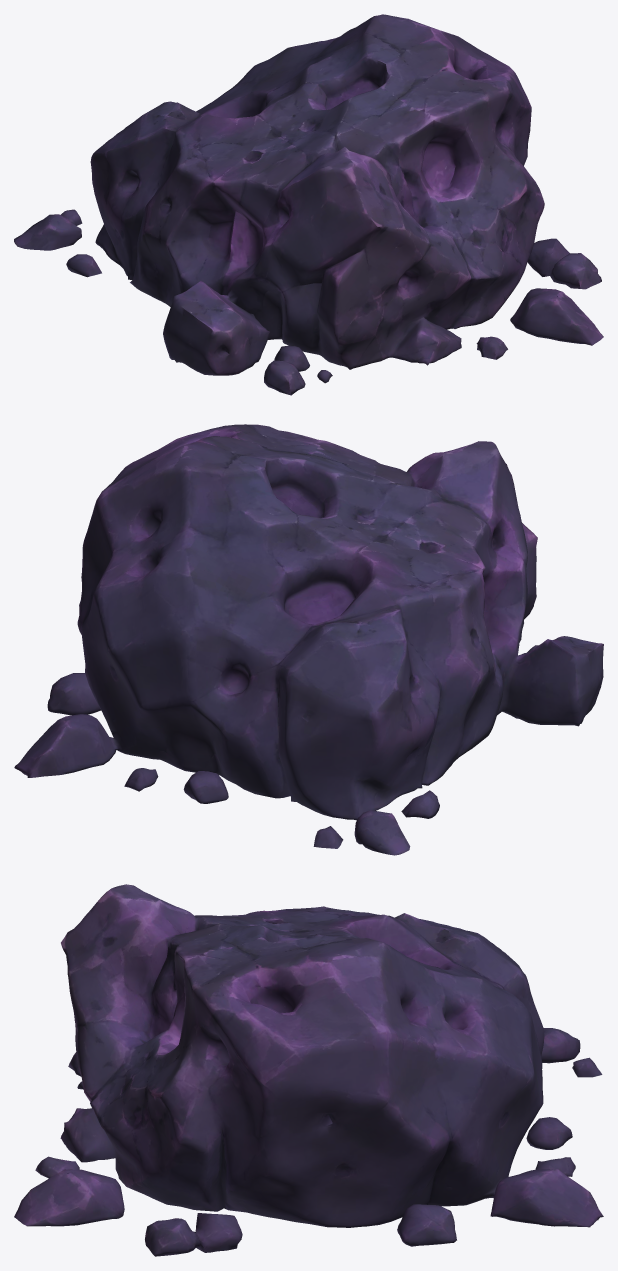
File: meteorite.glb
The picture shows the model from 3 angles, top to bottom: view 1: azimuth 30°, elevation 25°; view 2: azimuth 150°, elevation 25°; view 3: azimuth 270°, elevation 25°; orthographic projection. The views are drawn at different scales.
Visible parts, largest first — view 1: tripo_node_b59f1403; view 2: tripo_node_b59f1403; view 3: tripo_node_b59f1403.
Boxes of the visible parts, x1=… form: tripo_node_b59f1403: x1=14, y1=14, x2=603, y2=395; tripo_node_b59f1403: x1=14, y1=424, x2=603, y2=855; tripo_node_b59f1403: x1=14, y1=884, x2=603, y2=1256.
Size of the model in its own units: 88.87 by 46.38 by 99.73.
Materials: 1 (1 with a texture image).
